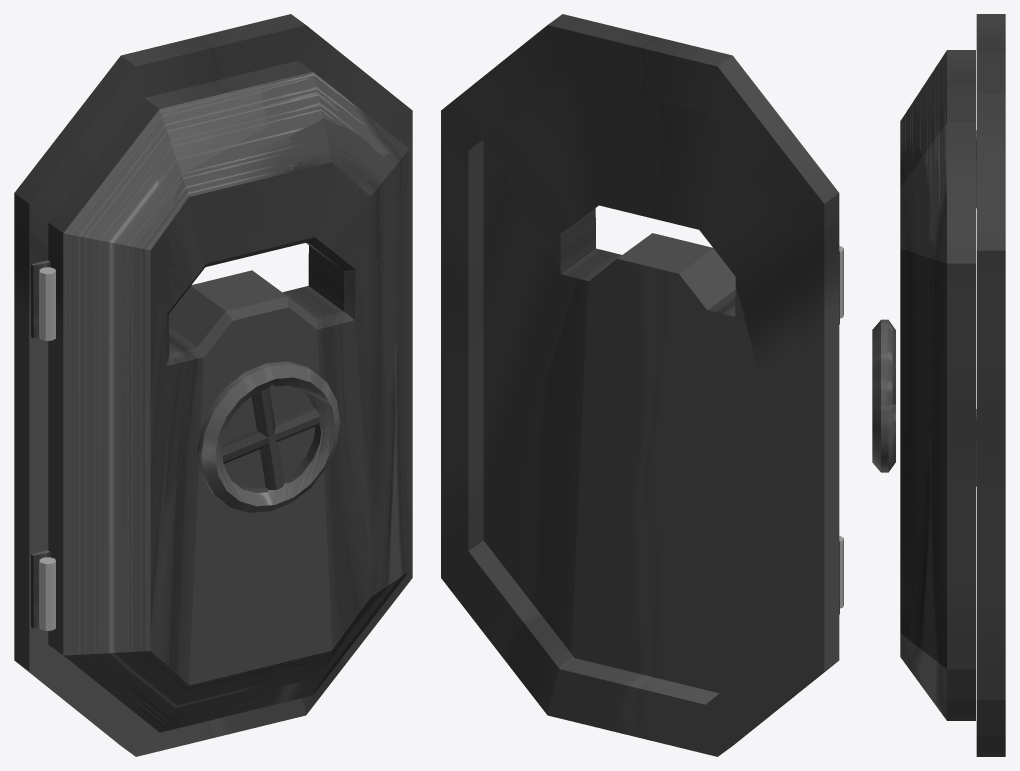
The model's file is Airlock.fbx.
3 views of the same model, side by side, from view 1: azimuth 30°, elevation 25°; view 2: azimuth 150°, elevation 25°; view 3: azimuth 270°, elevation 25° (orthographic). The views are drawn at different scales.
Visible parts, largest first — view 1: Airlock_door, Airlock_frame, Airlock_handle, Airlock_hinge1a, Airlock_hinge_2a, Airlock_hinge_2b, Airlock_hinge_1b; view 2: Airlock_door, Airlock_frame; view 3: Airlock_door, Airlock_frame, Airlock_handle.
Boxes of the visible parts, left/top/right/bottom form: Airlock_door: left=48, top=61, right=409, bottom=732; Airlock_frame: left=14, top=14, right=412, bottom=756; Airlock_handle: left=197, top=361, right=340, bottom=512; Airlock_hinge1a: left=39, top=267, right=55, bottom=340; Airlock_hinge_2a: left=39, top=557, right=55, bottom=630; Airlock_hinge_2b: left=31, top=550, right=50, bottom=628; Airlock_hinge_1b: left=31, top=260, right=50, bottom=338; Airlock_door: left=483, top=77, right=796, bottom=693; Airlock_frame: left=441, top=14, right=839, bottom=756; Airlock_door: left=900, top=50, right=975, bottom=720; Airlock_frame: left=976, top=14, right=1005, bottom=756; Airlock_handle: left=872, top=319, right=895, bottom=472.
Size of the model in its own units: 89.03 by 153 by 27.94.
Materials: 2 (1 with a texture image).
